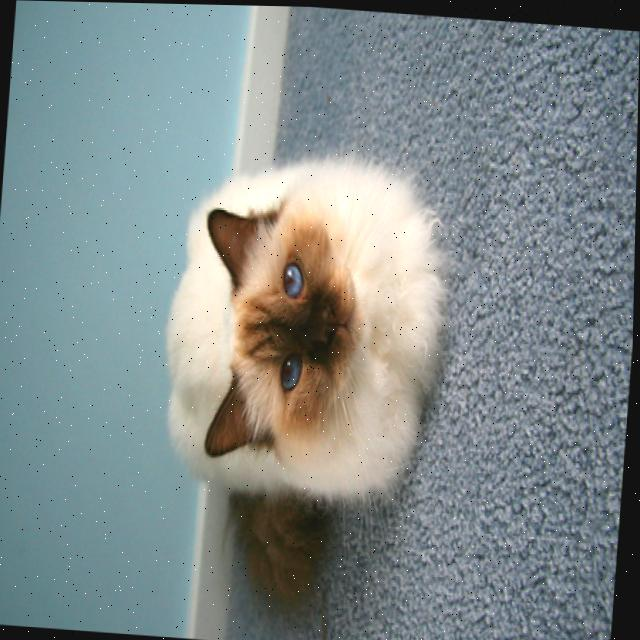Birman: (139, 126, 458, 631)
